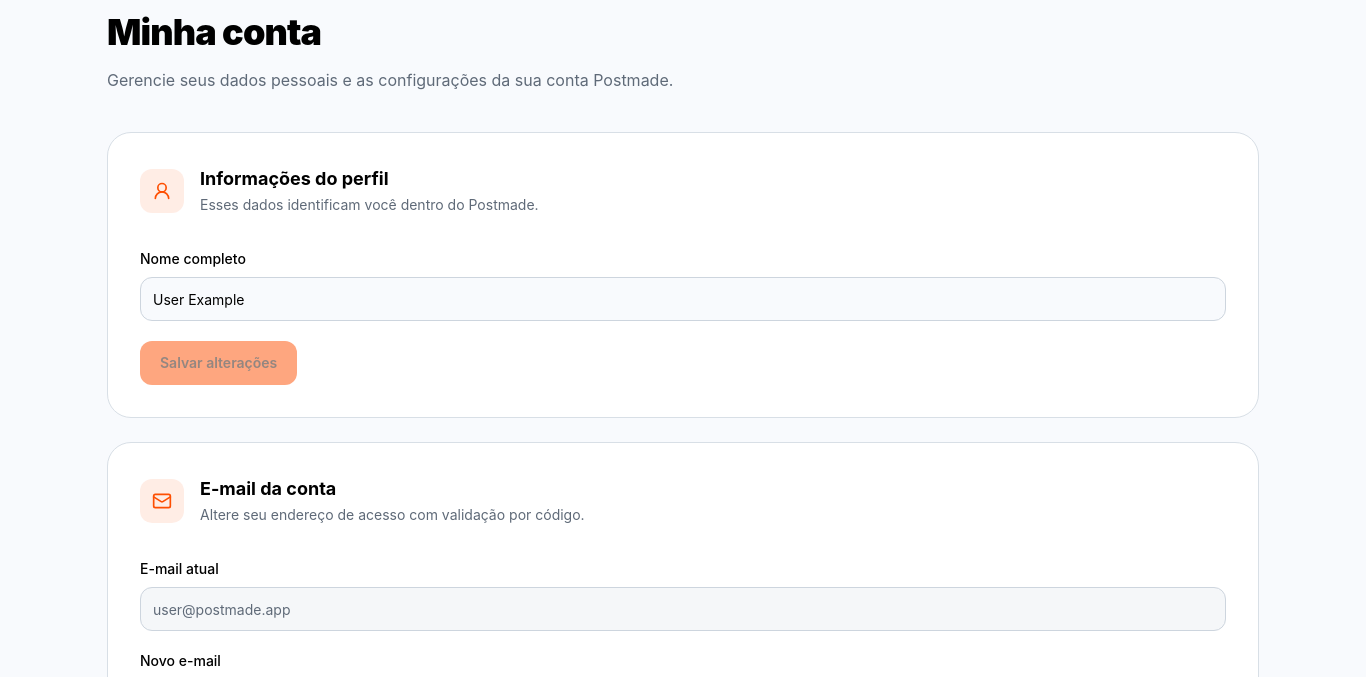
Test: AccountPage › validates and saves profile changes
Expected: the button "Salvar alterações" is disabled, [140,341,297,385]
Clear the field labelled "Nome completo" at point(683, 299), box [140,277,1226,321]
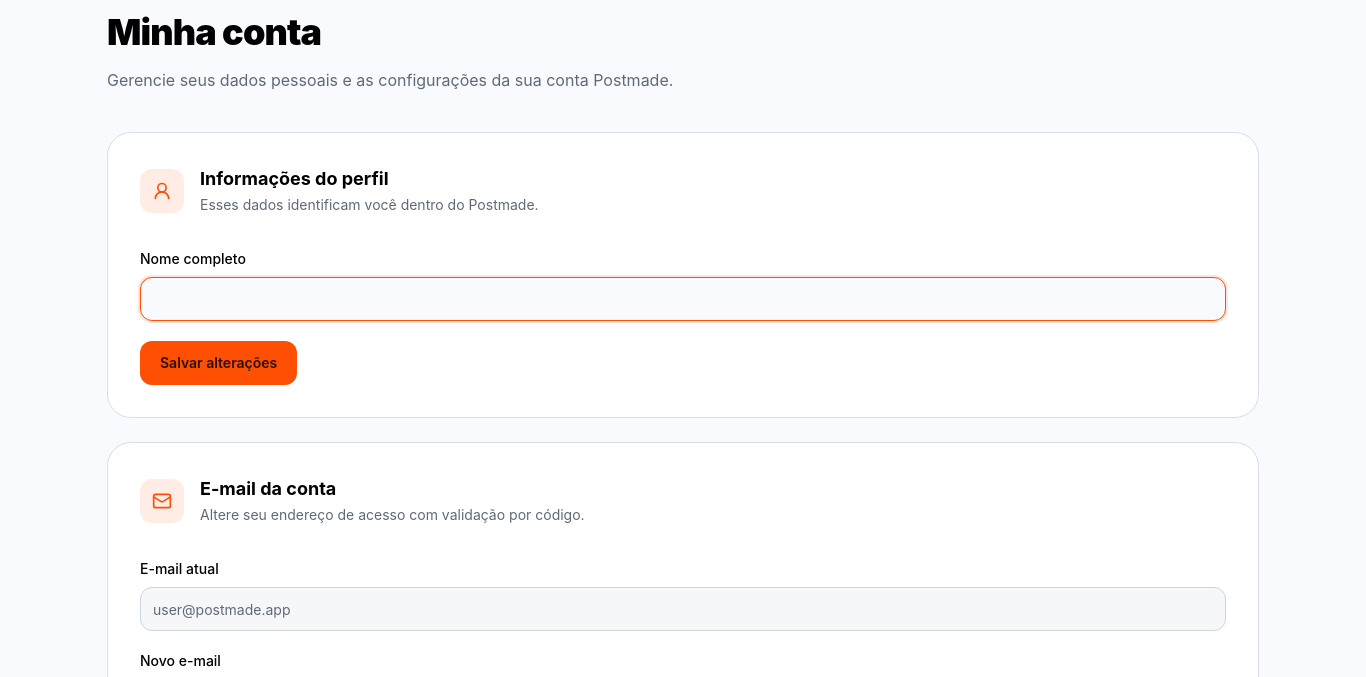
Press Tab
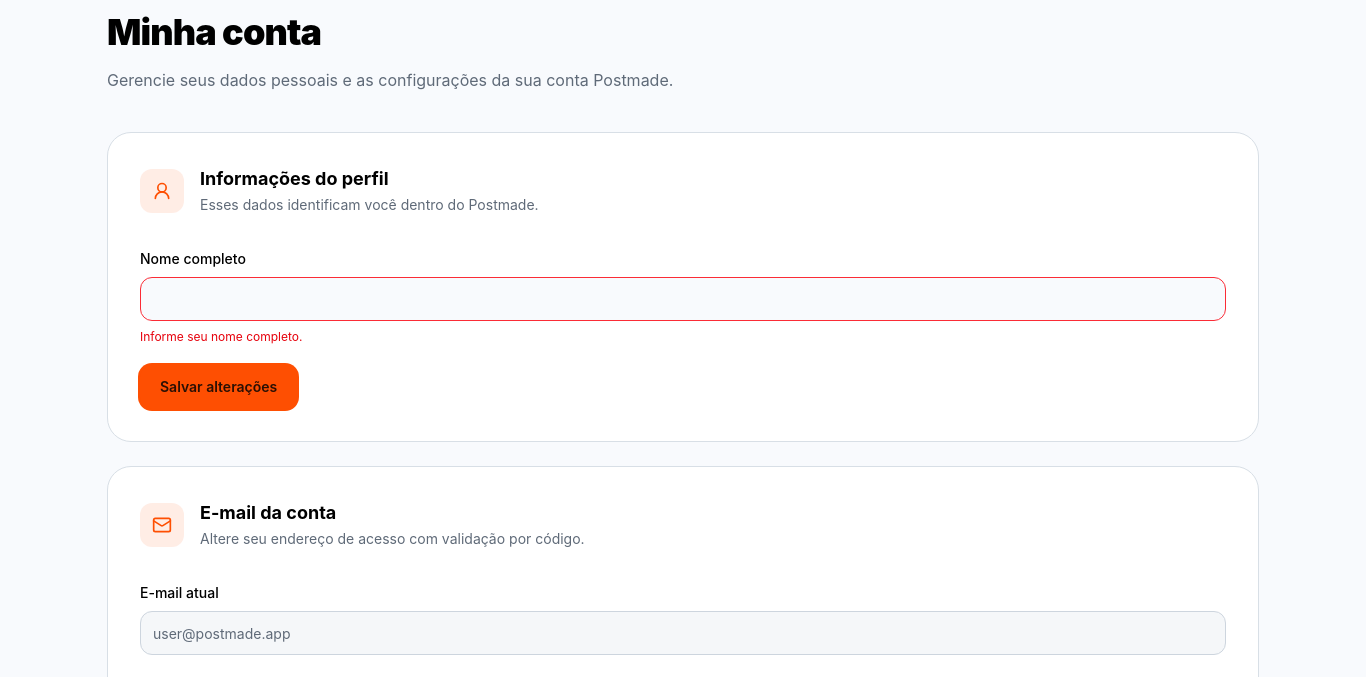
Now the text "Informe seu nome completo." is shown, box [140,329,302,344]
Type "Ada" into the field labelled "Nome completo" at point(683, 299), box [140,277,1226,321]
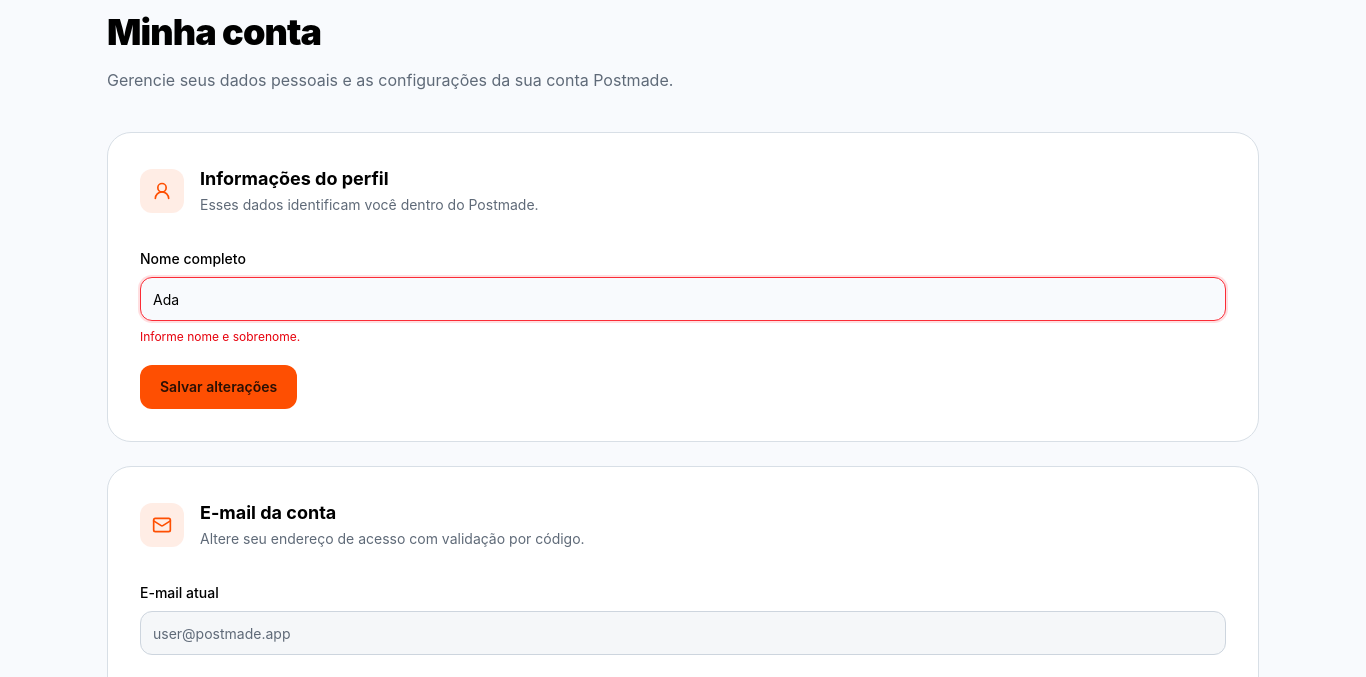
Now the text "Informe nome e sobrenome." is shown, box [140,329,300,344]
Type " Lovelace" into the field labelled "Nome completo" at point(683, 299), box [140,277,1226,321]
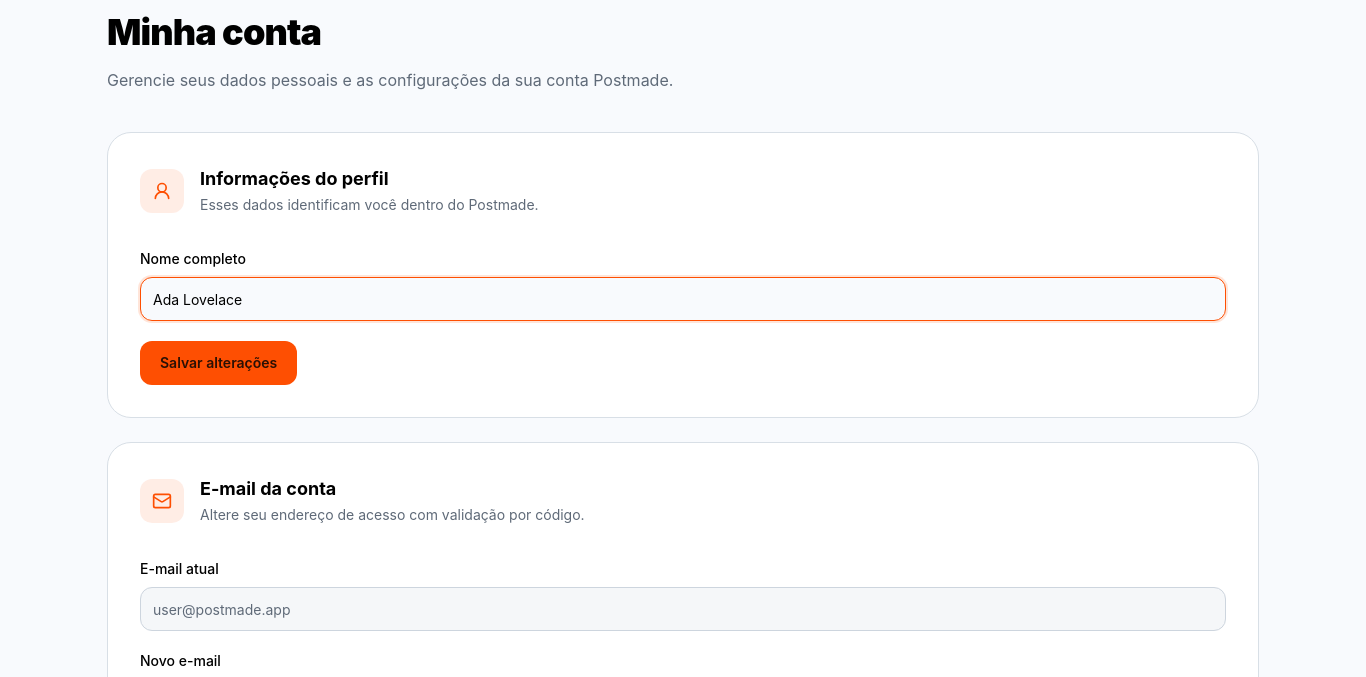
Now the button "Salvar alterações" is enabled
Now the text "Informe nome e sobrenome." is gone
Click the button "Salvar alterações" at point(219, 363), box [140,341,297,385]
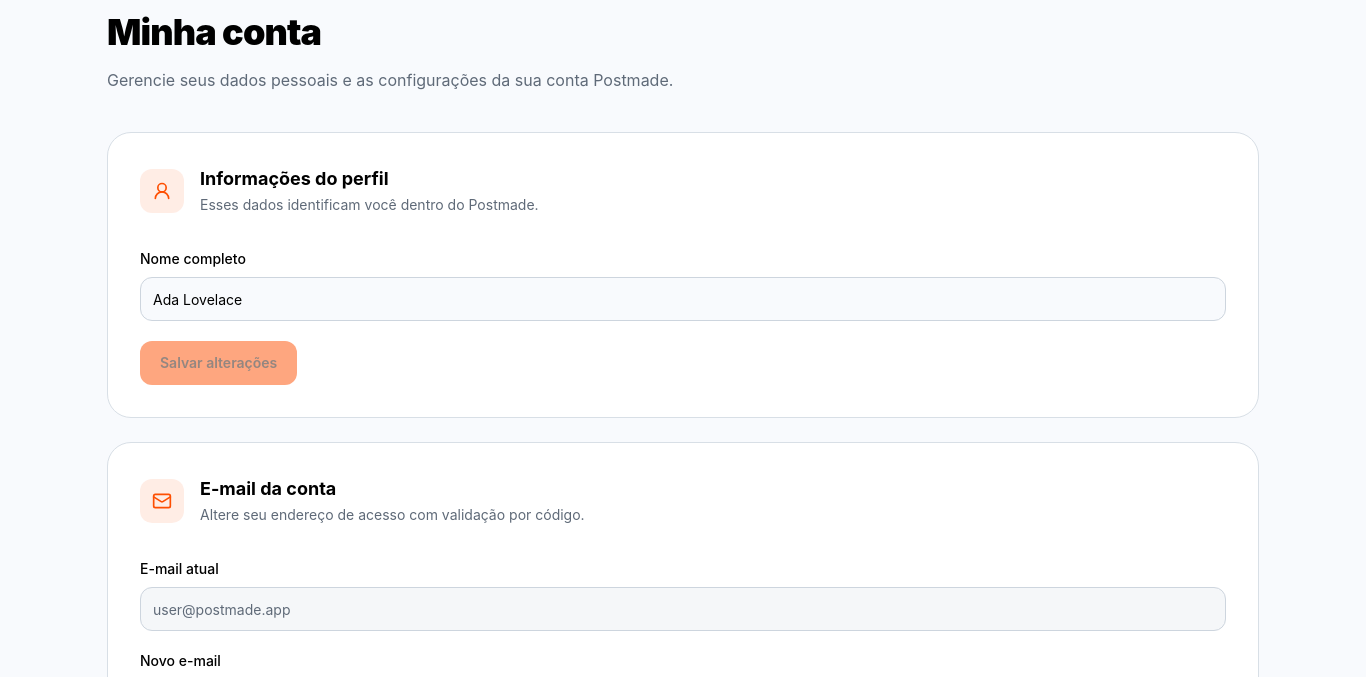
Now the button "Salvar alterações" is disabled, box [140,341,297,385]
